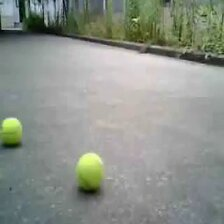tennis: (74, 154, 103, 189), (1, 117, 23, 144)
